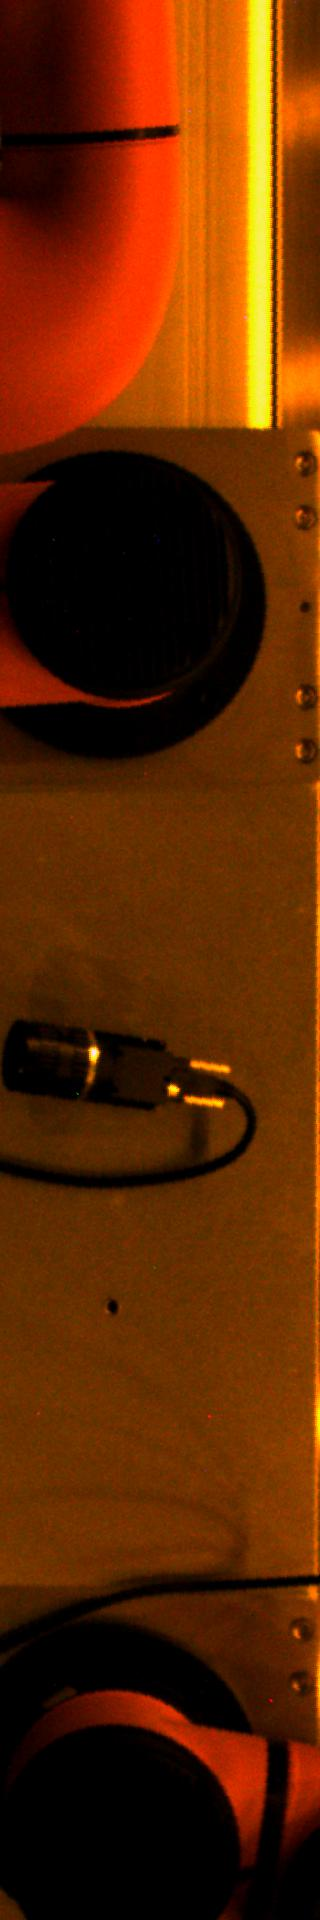keyPoint_2: (97, 1291, 128, 1321)
